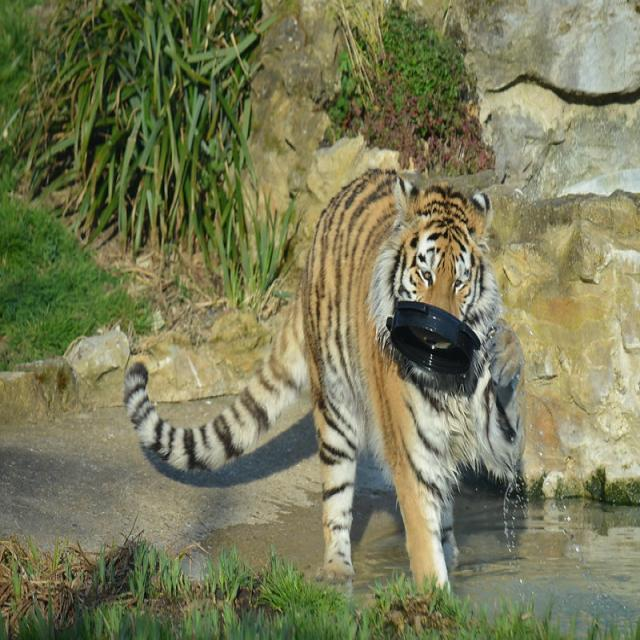Tiger: (122, 164, 528, 603)
